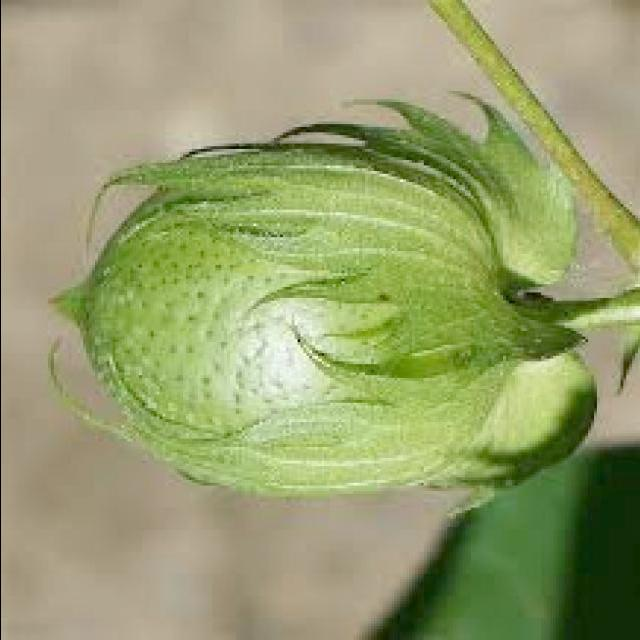Early Boll: (74, 105, 546, 518)
